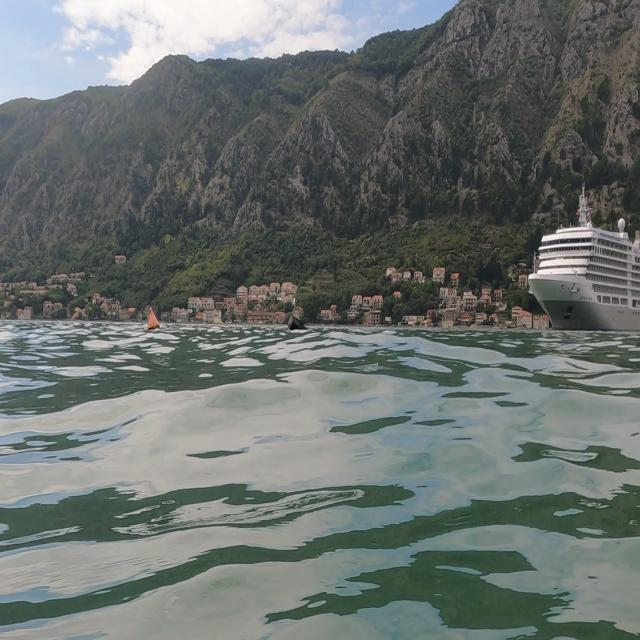boat: (526, 178, 638, 334)
buoy: (285, 309, 311, 339), (144, 305, 162, 339)
